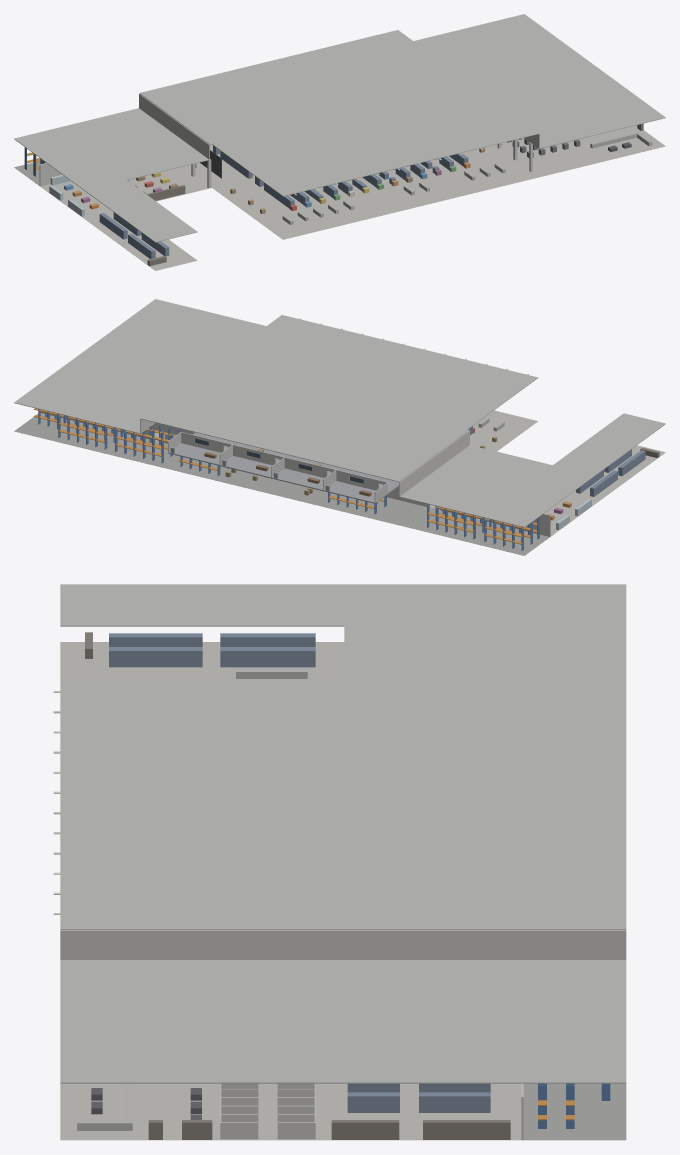
The model's file is superstore-interior.zfix-v1.lod1.glb.
The picture shows the model from 3 angles, top to bottom: view 1: azimuth 30°, elevation 25°; view 2: azimuth 150°, elevation 25°; view 3: azimuth 270°, elevation 25°; orthographic projection. The views are drawn at different scales.
Visible parts, largest first — view 1: superstore-interior; view 2: superstore-interior; view 3: superstore-interior.
Part boxes in pixels (left/top/right/bottom): superstore-interior: left=14, top=14, right=665, bottom=270; superstore-interior: left=14, top=299, right=665, bottom=555; superstore-interior: left=53, top=584, right=626, bottom=1140.
Bounding box in the file's own units: 148 × 12.17 × 71.99.
